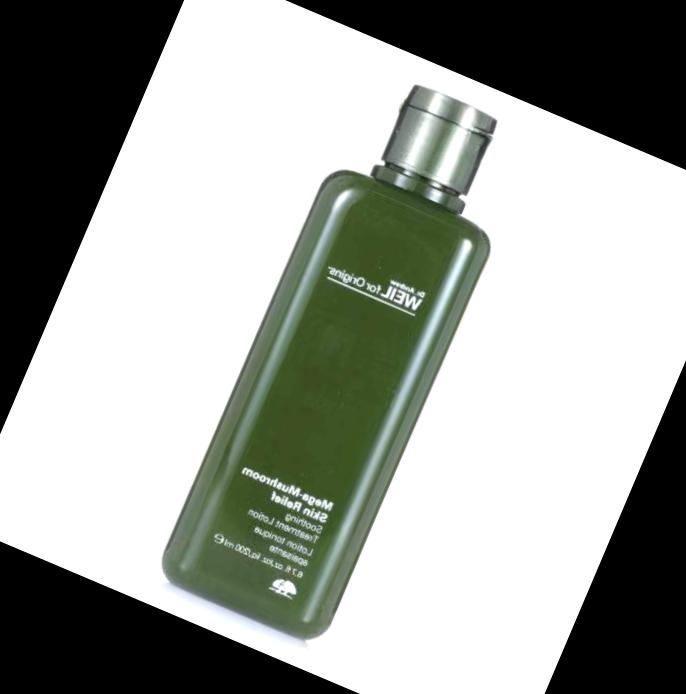cosmetic: (149, 56, 544, 653)
